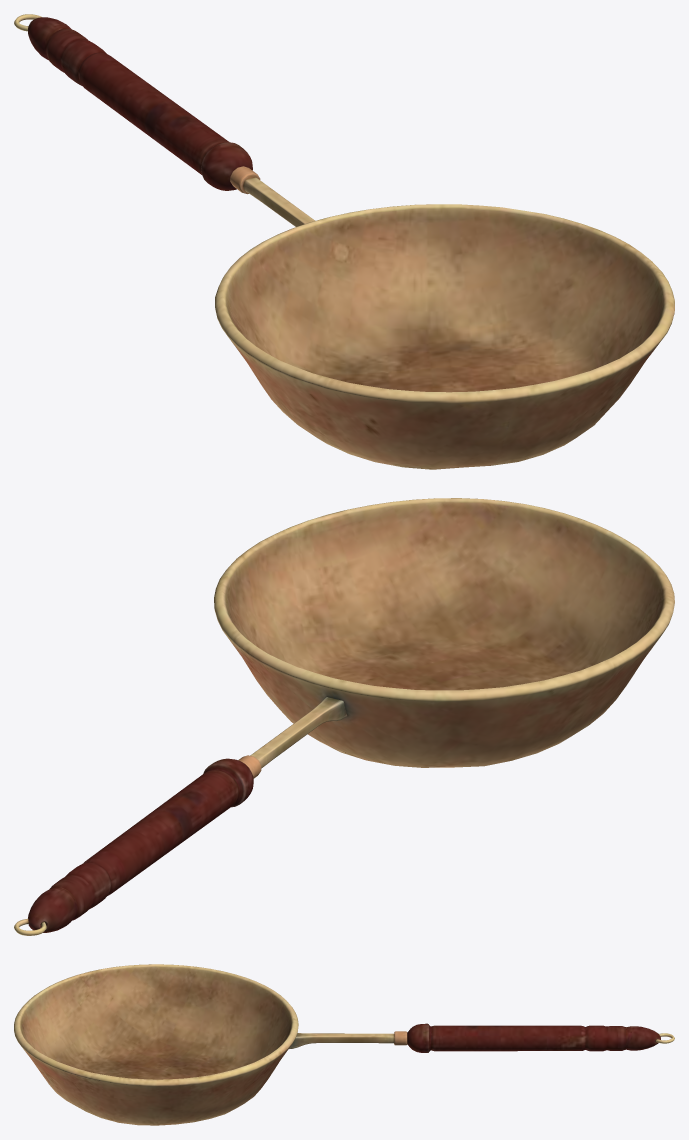
File: brass_pan_01.gltf
The picture shows the model from 3 angles, top to bottom: view 1: azimuth 30°, elevation 25°; view 2: azimuth 150°, elevation 25°; view 3: azimuth 270°, elevation 25°; orthographic projection. The views are drawn at different scales.
Visible parts, largest first — view 1: brass_pan_01; view 2: brass_pan_01; view 3: brass_pan_01.
Part boxes in pixels (x1,y1,x2,y2): brass_pan_01: [14, 14, 674, 469]; brass_pan_01: [14, 498, 674, 935]; brass_pan_01: [14, 964, 674, 1125].
Size of the model in its own units: 0.1913 by 0.0525 by 0.4497.
Materials: 1 (1 with a texture image).
